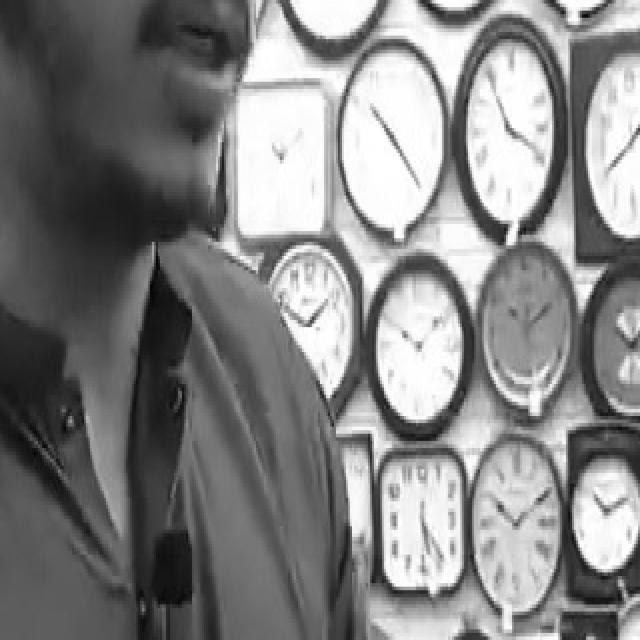wallclock: (450, 8, 568, 234), (336, 29, 452, 252), (366, 248, 474, 441), (473, 231, 579, 426), (467, 426, 568, 624), (266, 231, 364, 418), (568, 18, 640, 263), (233, 75, 332, 253), (374, 440, 468, 606), (564, 420, 640, 590), (580, 252, 640, 430), (337, 428, 381, 588), (272, 0, 394, 53), (202, 104, 233, 240), (612, 583, 640, 640), (434, 622, 504, 640)
